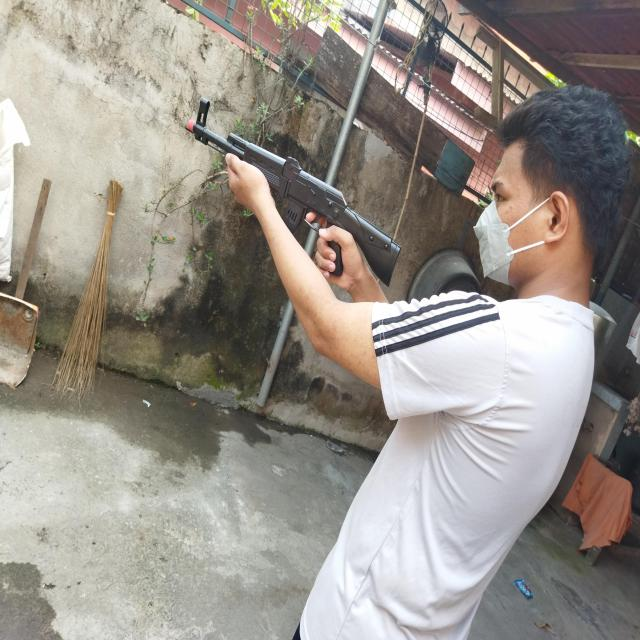rifle: (187, 97, 401, 288)
